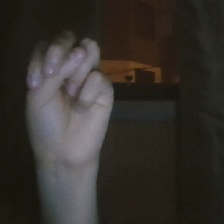N: (19, 23, 128, 178)
